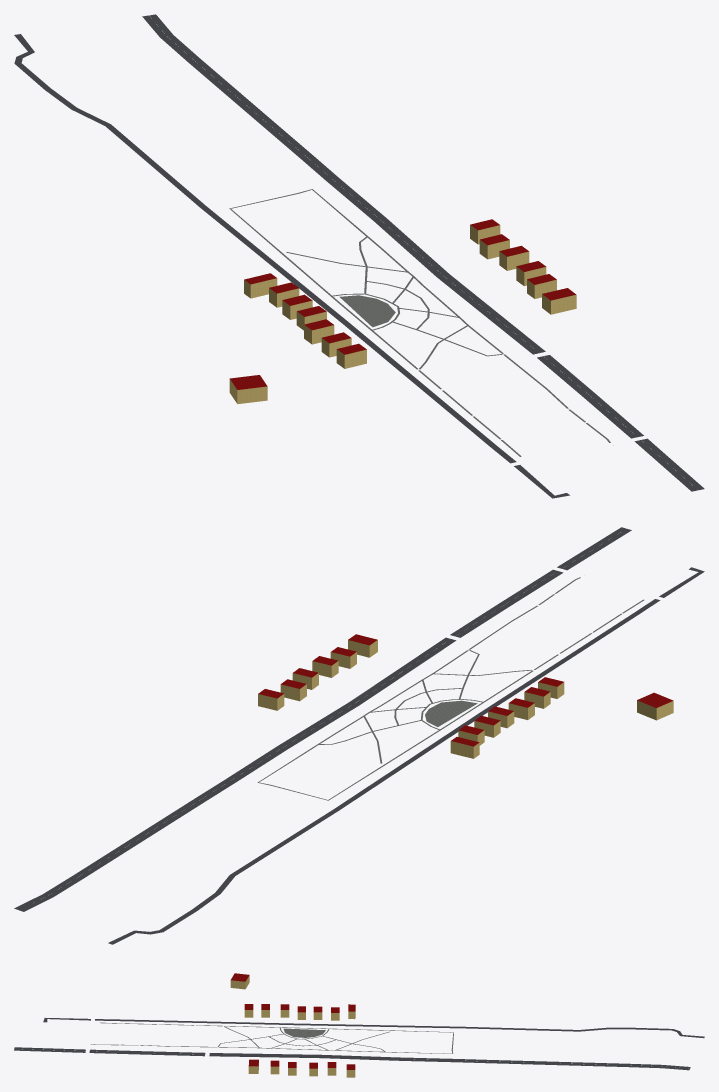
File: district_-1_-3.glb
3 renders of one model, top to bottom at view 1: azimuth 30°, elevation 25°; view 2: azimuth 150°, elevation 25°; view 3: azimuth 270°, elevation 25°, orthographic. The views are drawn at different scales.
Parts seen in each view (by area): view 1: Road Илекская улица, Road w40942568, SurfaceArea w1162516950, Building w442607553, Road w1162516949, Road w1162516933, Building w104673117; view 2: Road Илекская улица, Road w40942568, SurfaceArea w1162516950, Building w442607553, Road w1162516949; view 3: Road Илекская улица, Road w40942568, Road w1162516949, Road w1162516933, SurfaceArea w1162516950, Building w442607553.
Boxes of the visible parts, x1,y1,x2,y2 form: Road Илекская улица: (142,14,704,491); Road w40942568: (14,34,569,498); SurfaceArea w1162516950: (339,295,395,327); Building w442607553: (229,375,267,404); Road w1162516949: (229,189,613,445); Road w1162516933: (229,208,521,456); Building w104673117: (542,288,576,314); Road Илекская улица: (14,527,631,911); Road w40942568: (108,567,704,944); SurfaceArea w1162516950: (425,700,477,726); Building w442607553: (637,692,673,720); Road w1162516949: (257,577,580,800); Road Илекская улица: (14,1047,690,1070); Road w40942568: (43,1018,704,1038); Road w1162516949: (91,1032,453,1053); Road w1162516933: (100,1022,453,1032); SurfaceArea w1162516950: (283,1028,325,1037); Building w442607553: (230,973,249,989).
Bounding box in the file's own units: 203 × 7.5 × 613.
Materials: 5 (5 with a texture image).
